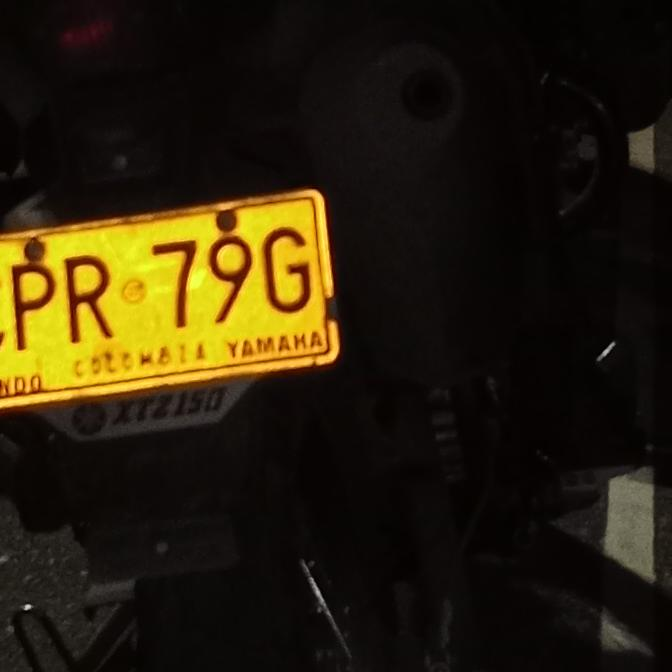plates: (0, 190, 340, 412)
